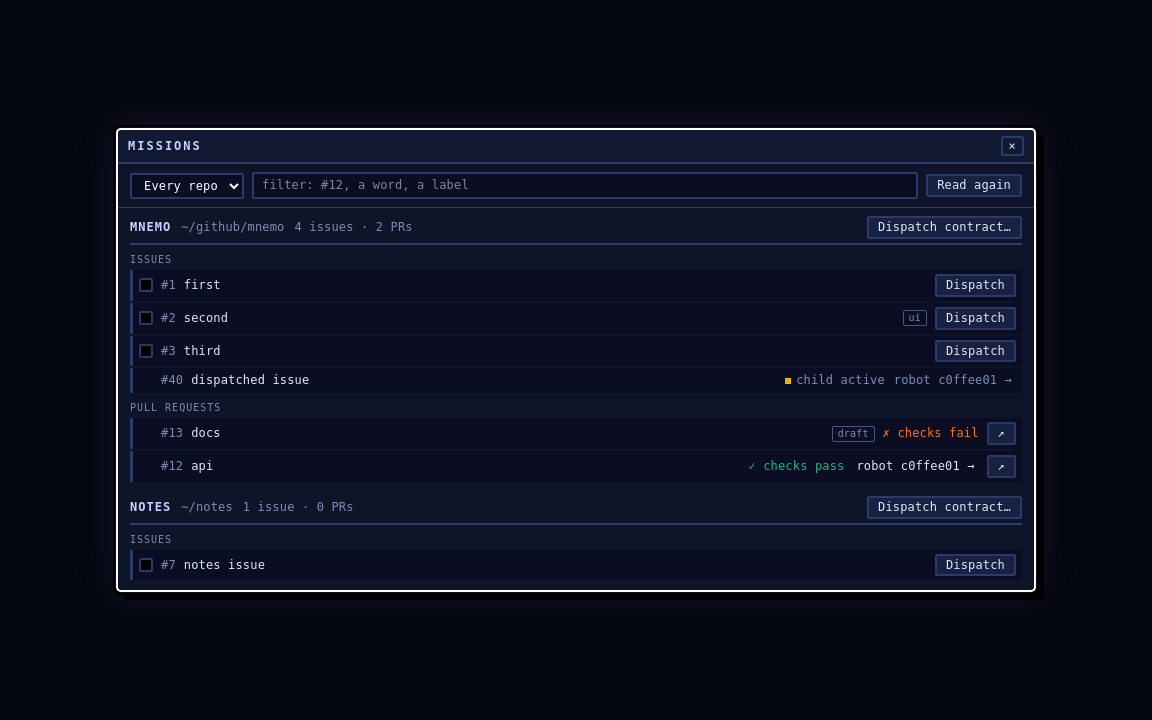
a robot the ship does not have says so, and the window stays
Click the button "robot c0ffee01 →" next to "checks pass" at (916, 466), box [852,458,979,475]
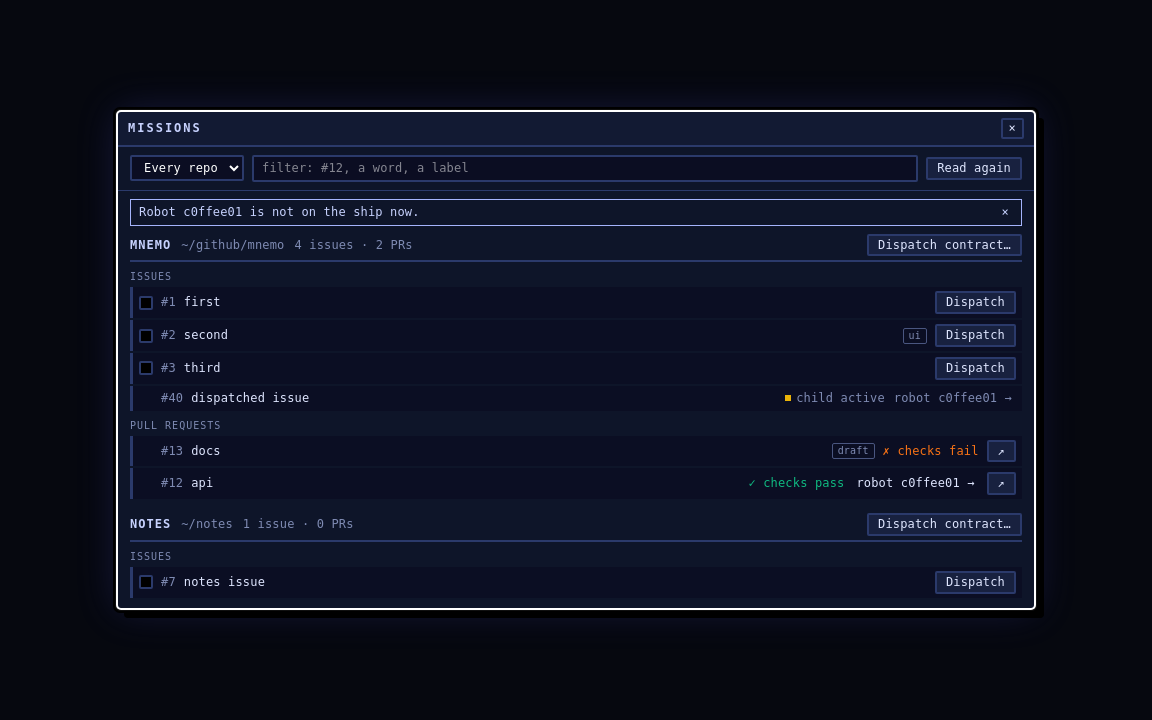
Now the message "Robot c0ffee01 is not on the ship now. ×" is shown, box [130,199,1022,226]
